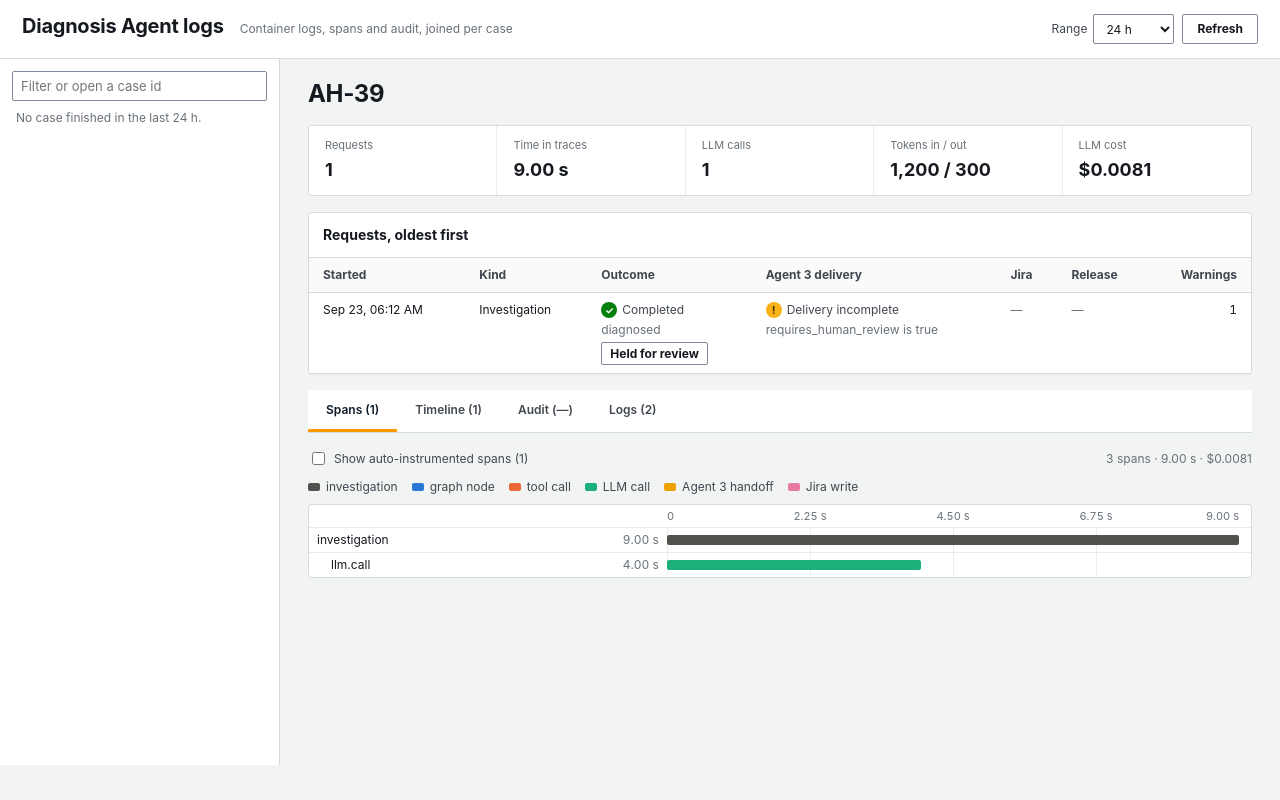
Test: audit that is not connected says so instead of failing the page
Click the tab "Audit (—)": (545, 412) left=500, top=390, right=591, bottom=432
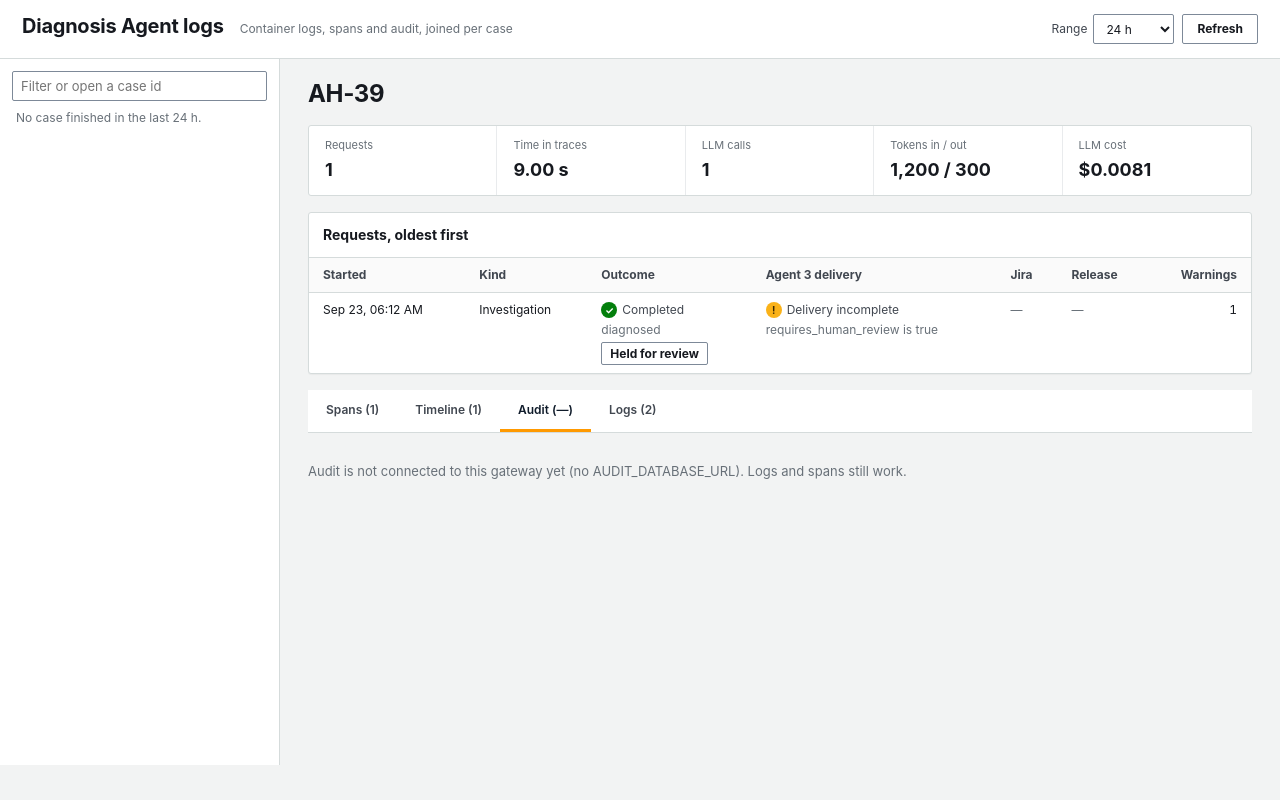
Now the text "Audit is not connected" is shown, box left=308, top=464, right=907, bottom=480
